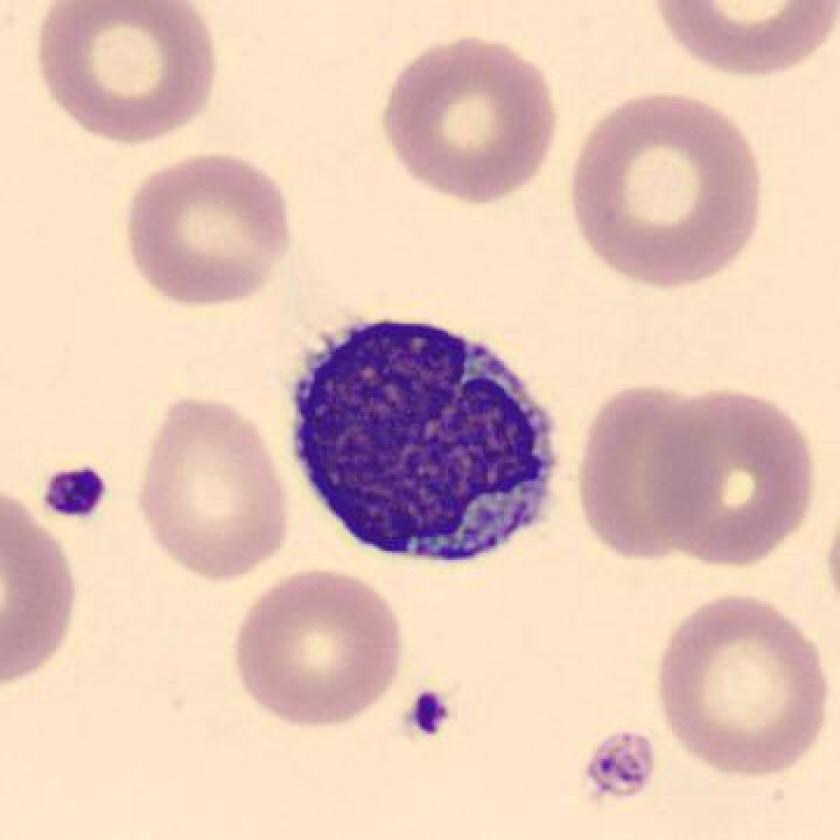lymphocyte: (270, 283, 578, 596)
